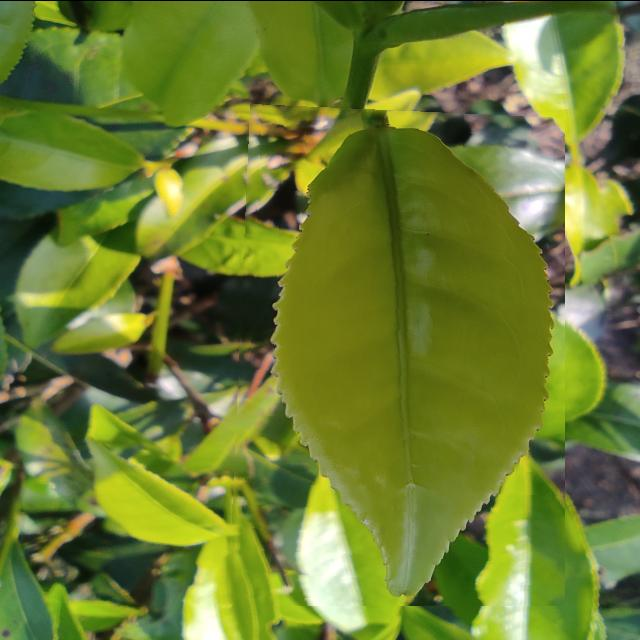Category B(2-4 days): (228, 103, 565, 605)
